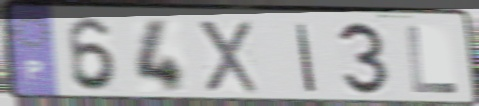3: (336, 18, 393, 99)
4: (131, 17, 192, 95)
6: (66, 15, 119, 94)
I: (294, 21, 319, 95)
L: (403, 23, 461, 95)
X: (194, 18, 262, 96)
